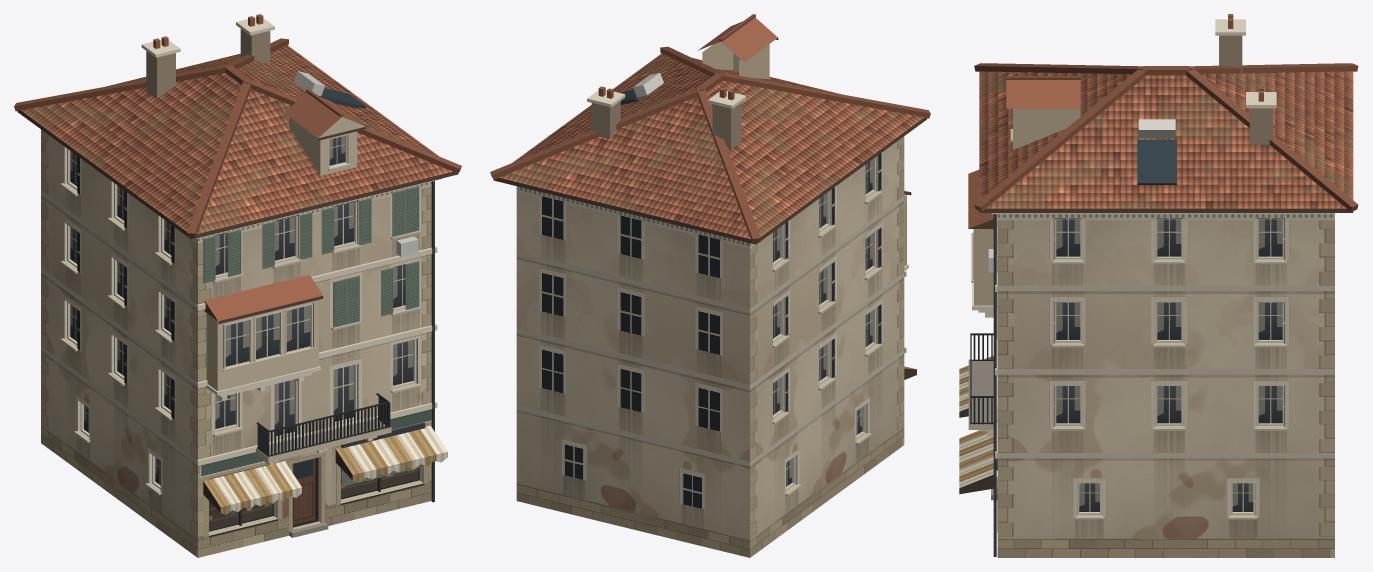
The model's file is hero_a.glb.
3 renders of one model, left to right at view 1: azimuth 30°, elevation 25°; view 2: azimuth 150°, elevation 25°; view 3: azimuth 270°, elevation 25°, orthographic. The views are drawn at different scales.
Visible parts, largest first — view 1: bld_hero_old_core; view 2: bld_hero_old_core; view 3: bld_hero_old_core.
Boxes of the visible parts, x1,y1,x2,y2 form: bld_hero_old_core: (14, 14, 461, 557); bld_hero_old_core: (490, 14, 930, 557); bld_hero_old_core: (959, 14, 1358, 557).
Bounding box in the file's own units: 11.14 × 16.34 × 13.02.
Materials: 1 (1 with a texture image).
